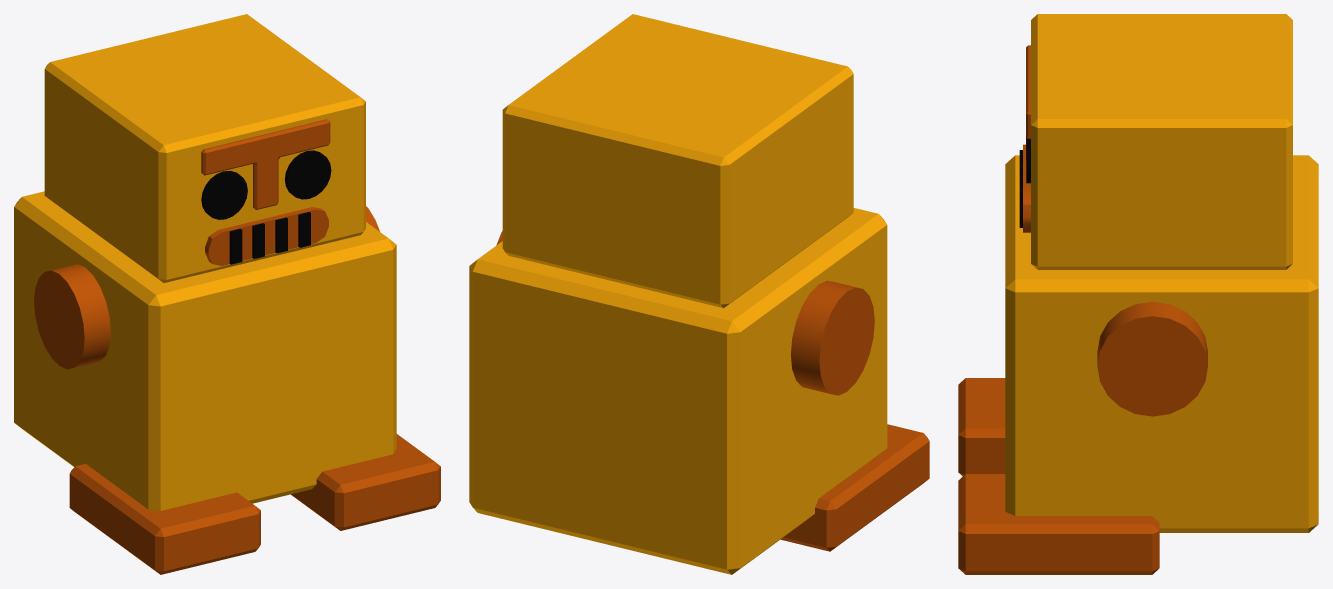
File: robot.glb
The picture shows the model from 3 angles, left to right: view 1: azimuth 30°, elevation 25°; view 2: azimuth 150°, elevation 25°; view 3: azimuth 270°, elevation 25°; orthographic projection. The views are drawn at different scales.
Size of the model in its own units: 0.7625 by 0.9591 by 0.7219.
